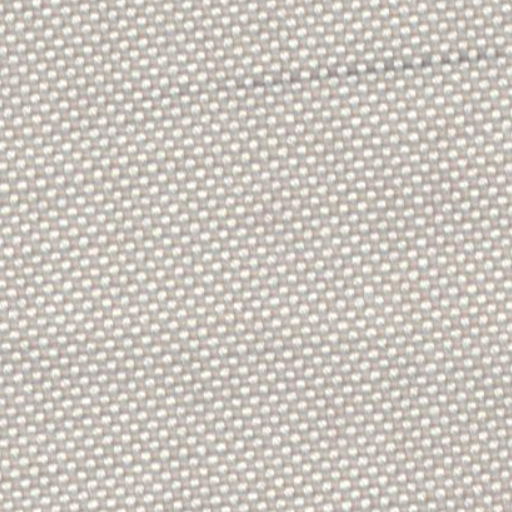WuZi: (228, 46, 504, 91)
